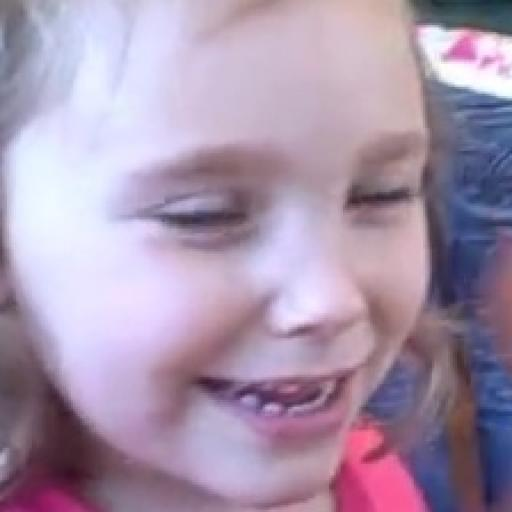Autism: (45, 27, 512, 512)
